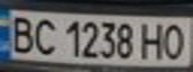1: (60, 17, 81, 57)
2: (78, 17, 100, 59)
3: (97, 18, 118, 60)
8: (115, 19, 139, 61)
B: (3, 12, 39, 54)
C: (30, 16, 60, 56)
H: (136, 20, 169, 61)
O: (157, 20, 190, 61)
